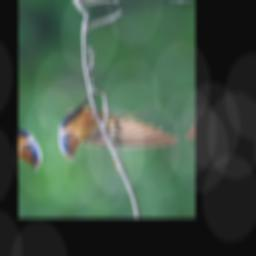Swallow: (47, 73, 181, 175)
